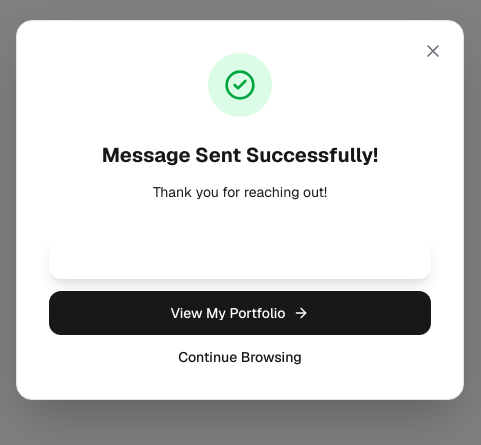
Test: SuccessModal › booking submission › shows error message on booking failure
This screenshot has width=481, height=445.
Click the button "Book a Free Consultation": click(240, 257) [49,235,431,279]
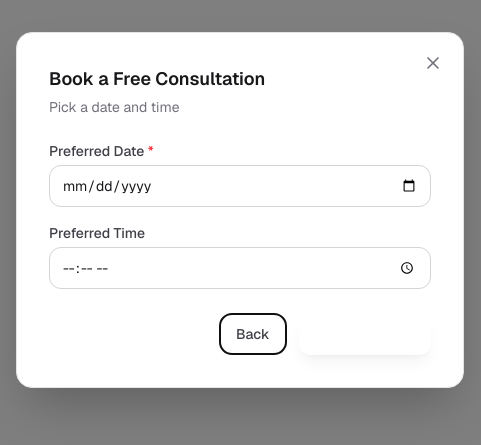
In the date field: (240, 186) [49,165,431,207], type "2026-07-20"
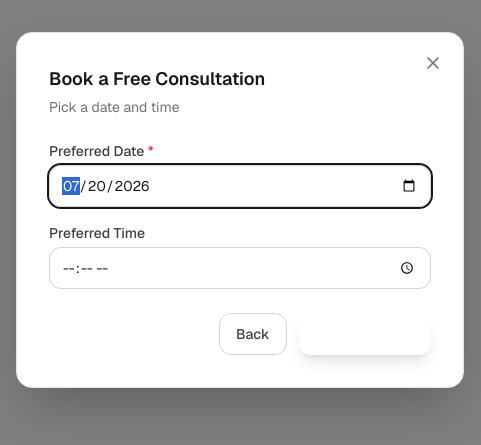
Click the button "Book Now": click(365, 334) [298,313,431,355]
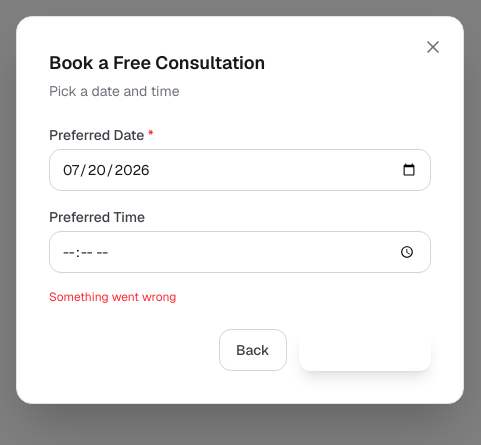
Result: the text "Something went wrong" is shown at [49,289,176,305]
